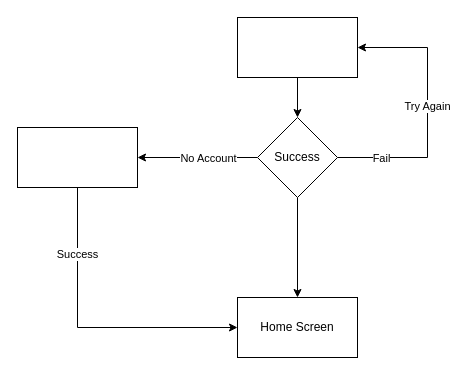
This 467x375 diagram has some shape labels left out. The centre of each missing label's shape, as x and y in pixels:
Login: point 297,47
Registration: point 77,157
